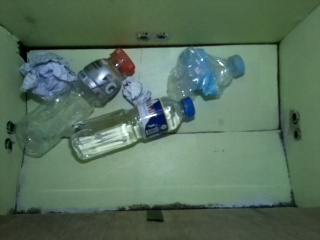bottle: (15, 47, 137, 160), (71, 95, 196, 163)
damaged-bottle: (165, 47, 245, 108)
paper: (19, 53, 78, 100), (122, 78, 151, 105)
